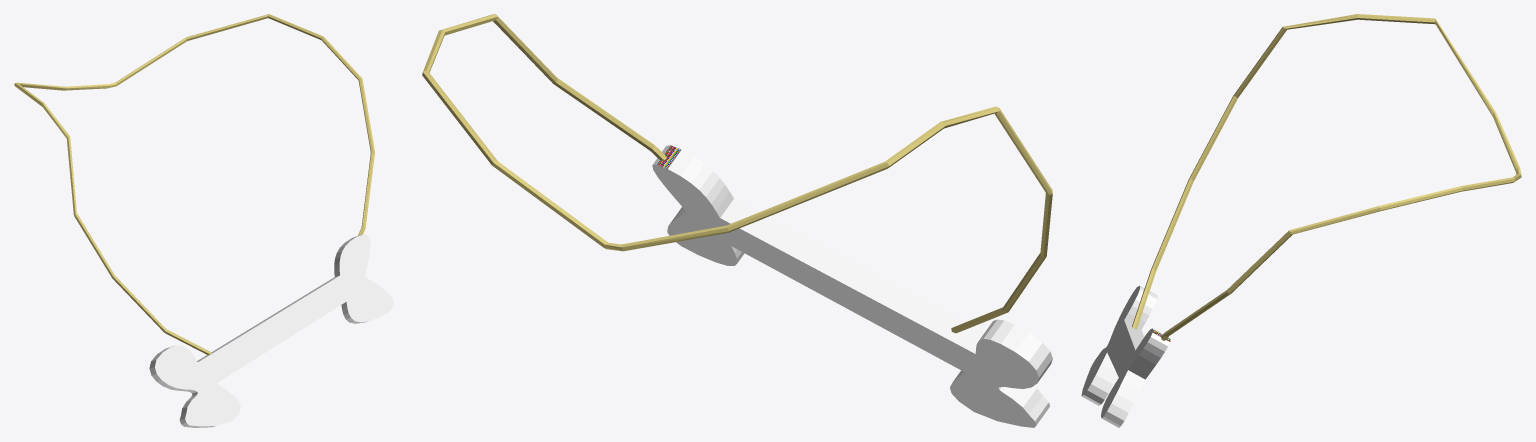
Rendered from corps_os.fbx.
3 views of the same model, side by side, from view 1: azimuth 30°, elevation 25°; view 2: azimuth 150°, elevation 25°; view 3: azimuth 270°, elevation 25° (orthographic). The views are drawn at different scales.
Parts seen in each view (by area): view 1: Line001; view 2: Line001; view 3: Line001.
Boxes of the visible parts, x1,y1,x2,y2 form: Line001: (14,14,393,427); Line001: (422,14,1052,427); Line001: (1081,14,1521,427).
Bounding box in the file's own units: 37.14 × 30.52 × 35.59.
